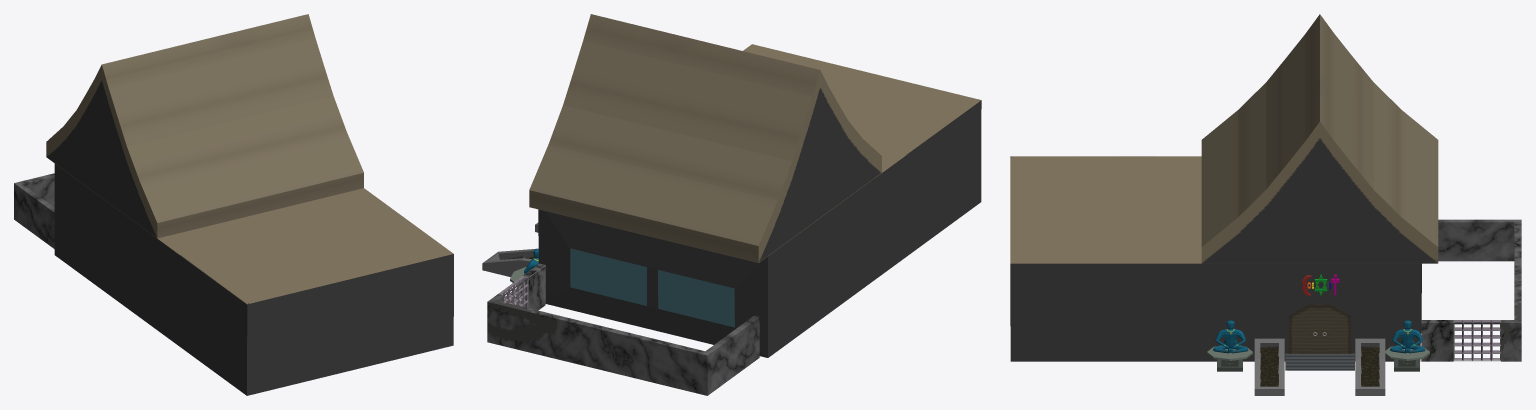
Rendered from model_building_budistTemple_V0.4.fbx.
3 views of the same model, side by side, from view 1: azimuth 30°, elevation 25°; view 2: azimuth 150°, elevation 25°; view 3: azimuth 270°, elevation 25° (orthographic). The views are drawn at different scales.
Parts seen in each view (by area): view 1: mesh_homeBase; view 2: mesh_homeBase, mesh_doorSides, mesh_gate; view 3: mesh_homeBase, mesh_doorSides, mesh_door.003, mesh_door.002, mesh_gate, mesh_floor, mesh_promp_meditatingHuman.001, mesh_promp_meditatingHuman, mesh_StatueScaffold, mesh_StatueScaffold.001.
Part boxes in pixels (left/top/right/bottom): mesh_homeBase: left=14, top=14, right=453, bottom=395; mesh_homeBase: left=487, top=14, right=981, bottom=395; mesh_doorSides: left=482, top=222, right=538, bottom=277; mesh_gate: left=498, top=276, right=528, bottom=307; mesh_homeBase: left=1010, top=14, right=1521, bottom=361; mesh_doorSides: left=1254, top=338, right=1385, bottom=395; mesh_door.003: left=1288, top=303, right=1319, bottom=353; mesh_door.002: left=1320, top=303, right=1351, bottom=353; mesh_gate: left=1453, top=320, right=1500, bottom=361; mesh_floor: left=1285, top=353, right=1354, bottom=370; mesh_promp_meditatingHuman.001: left=1213, top=320, right=1248, bottom=353; mesh_promp_meditatingHuman: left=1390, top=320, right=1425, bottom=353; mesh_StatueScaffold: left=1207, top=346, right=1252, bottom=371; mesh_StatueScaffold.001: left=1385, top=346, right=1429, bottom=371.
Size of the model in its own units: 3060 by 2416 by 4648.
1 material, 1 textured.
